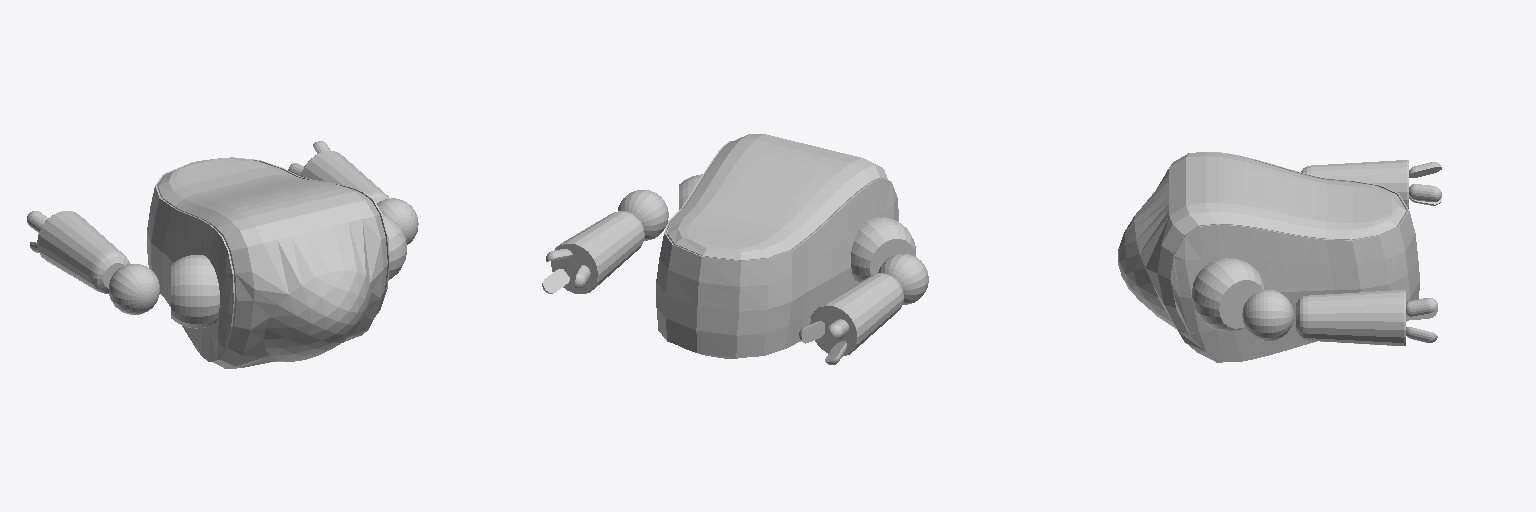
Rendered from dino.obj.
The picture shows the model from 3 angles: view 1: azimuth 30°, elevation 25°; view 2: azimuth 150°, elevation 25°; view 3: azimuth 270°, elevation 25°; orthographic projection.
Parts seen in each view (by area): view 1: Body_lambert1, Right_Arm_lambert1, Right_Shoulder_lambert1, Right_Elbow_lambert1, Left_Arm_lambert1, Left_Elbow_lambert1, Left_Shoulder_lambert1; view 2: Body_lambert1, Left_Arm_lambert1, Right_Arm_lambert1, Right_Shoulder_lambert1, Left_Elbow_lambert1, Right_Elbow_lambert1, Right_Fingers_lambert1, Left_Fingers_lambert1; view 3: Body_lambert1, Left_Arm_lambert1, Left_Shoulder_lambert1, Right_Arm_lambert1, Left_Elbow_lambert1, Left_Fingers_lambert1, Right_Fingers_lambert1.
Part boxes in pixels (bbox=[...]): Body_lambert1: bbox=[147, 157, 389, 368]; Right_Arm_lambert1: bbox=[37, 211, 129, 293]; Right_Shoulder_lambert1: bbox=[171, 255, 219, 328]; Right_Elbow_lambert1: bbox=[109, 264, 159, 314]; Left_Arm_lambert1: bbox=[301, 151, 389, 203]; Left_Elbow_lambert1: bbox=[377, 198, 418, 244]; Left_Shoulder_lambert1: bbox=[383, 214, 406, 279]; Body_lambert1: bbox=[656, 134, 898, 358]; Left_Arm_lambert1: bbox=[551, 211, 644, 293]; Right_Arm_lambert1: bbox=[810, 273, 903, 356]; Right_Shoulder_lambert1: bbox=[851, 216, 915, 282]; Left_Elbow_lambert1: bbox=[618, 190, 668, 240]; Right_Elbow_lambert1: bbox=[878, 254, 928, 304]; Right_Fingers_lambert1: bbox=[799, 319, 848, 364]; Left_Fingers_lambert1: bbox=[542, 249, 590, 293]; Body_lambert1: bbox=[1118, 152, 1419, 362]; Left_Arm_lambert1: bbox=[1296, 290, 1405, 345]; Left_Shoulder_lambert1: bbox=[1192, 258, 1264, 331]; Right_Arm_lambert1: bbox=[1301, 160, 1408, 208]; Left_Elbow_lambert1: bbox=[1242, 290, 1293, 340]; Left_Fingers_lambert1: bbox=[1406, 298, 1437, 342]; Right_Fingers_lambert1: bbox=[1409, 162, 1441, 205].
Size of the model in its own units: 19.89 by 9.48 by 17.99.